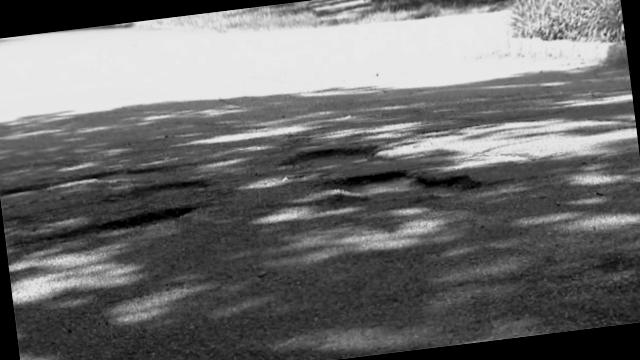Pothole: (1, 132, 248, 274), (266, 121, 464, 234)
